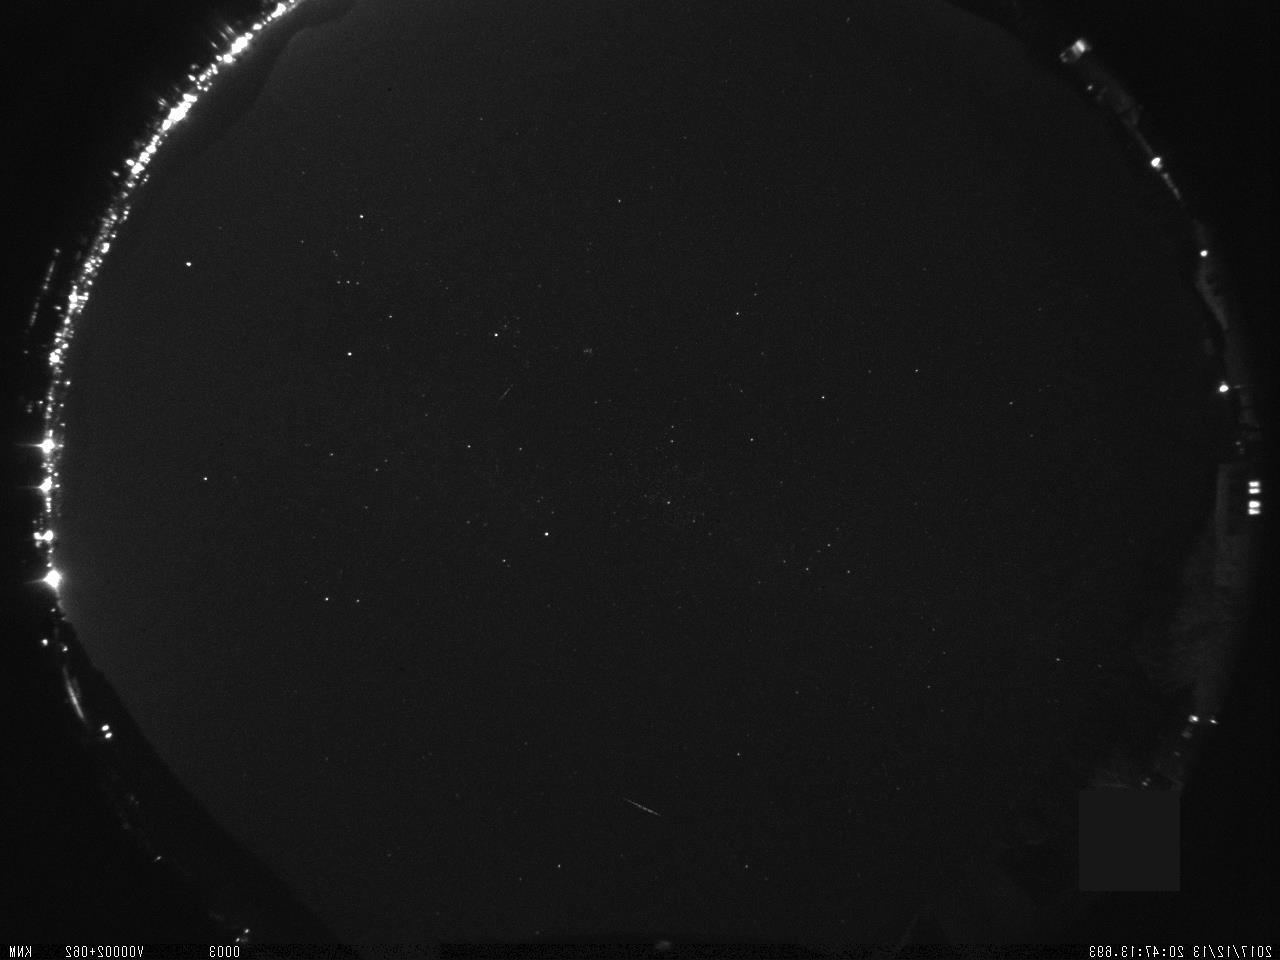meteor: (608, 786, 673, 829)
